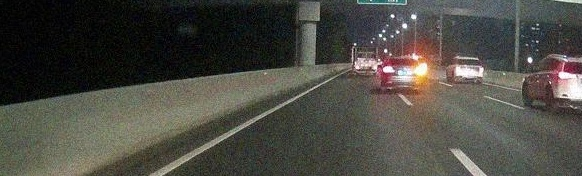L_light: (382, 65, 395, 73), (456, 65, 463, 70)
R_light: (413, 66, 424, 73), (477, 66, 483, 70)
T_light: (398, 58, 406, 60), (466, 58, 472, 60)
night-no: (455, 56, 484, 83)
night-right: (381, 56, 425, 92)
